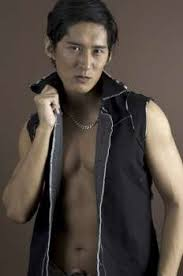asian_male: (59, 29, 106, 88)
